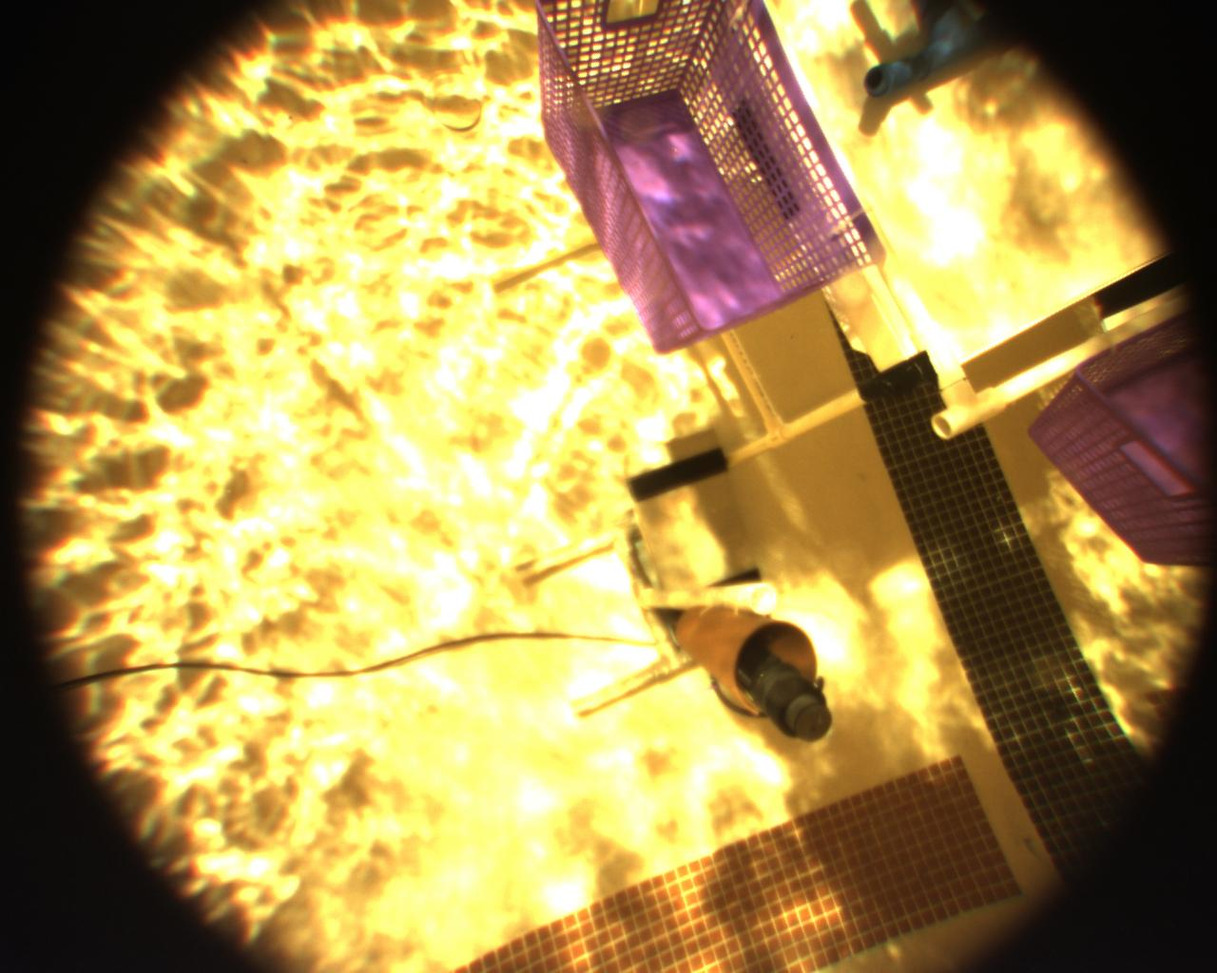coral: (848, 6, 1037, 100)
coral-box-top: (737, 0, 1178, 421)
